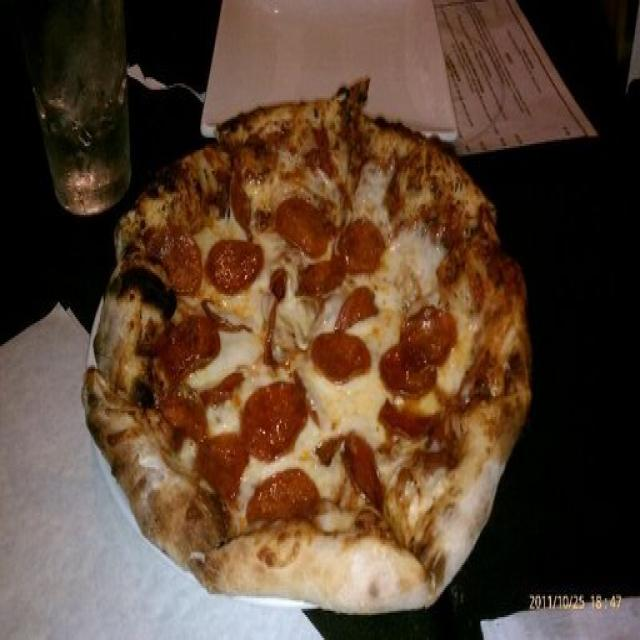Pepperoni: (379, 301, 453, 394), (254, 457, 314, 542), (327, 423, 387, 507), (245, 370, 302, 457), (149, 318, 221, 377), (196, 433, 240, 508), (205, 237, 264, 292), (280, 190, 326, 258), (312, 329, 370, 380), (160, 233, 200, 292), (300, 245, 348, 294), (340, 218, 378, 272), (337, 281, 381, 326), (156, 403, 209, 437)
Pizza: (85, 81, 530, 615)
